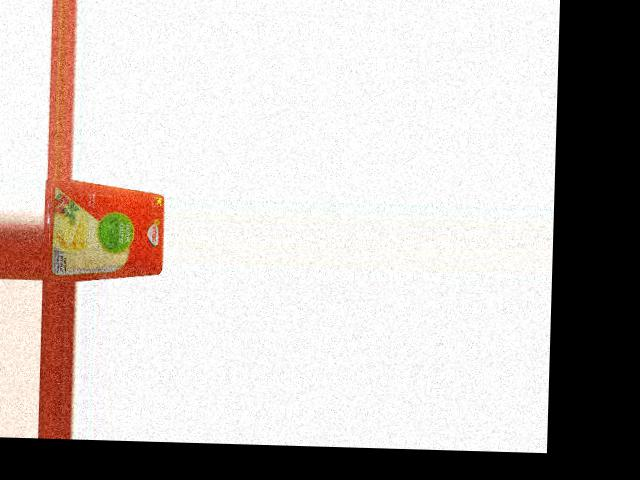cheese: (42, 178, 164, 281)
